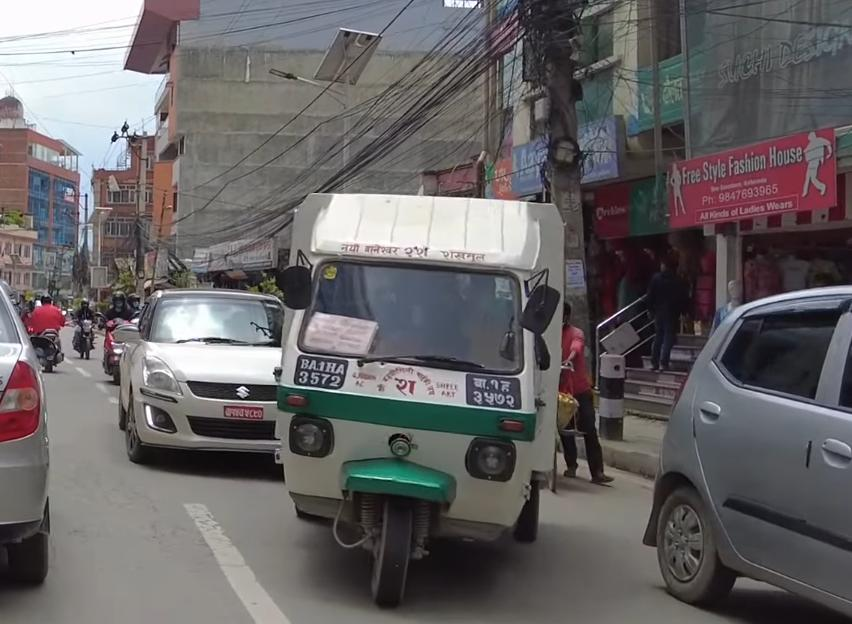tempo: (271, 181, 569, 624)
